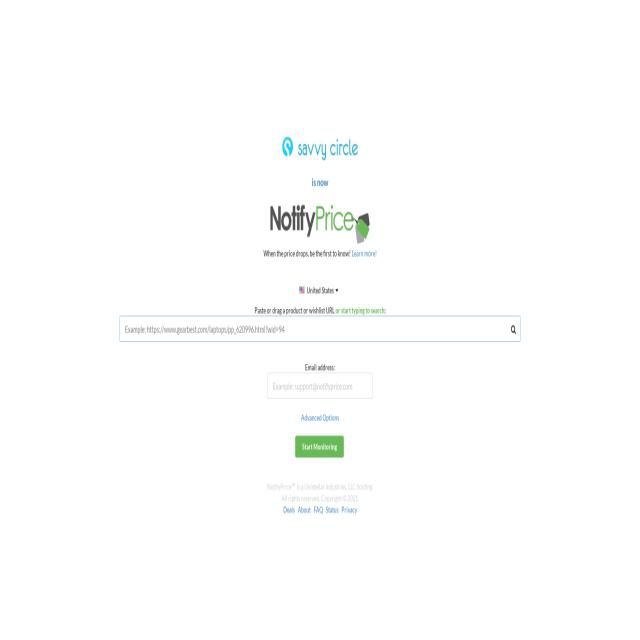button: (270, 190, 370, 248), (282, 136, 358, 160), (295, 436, 344, 458)
field: (120, 315, 521, 341), (267, 373, 373, 399)
